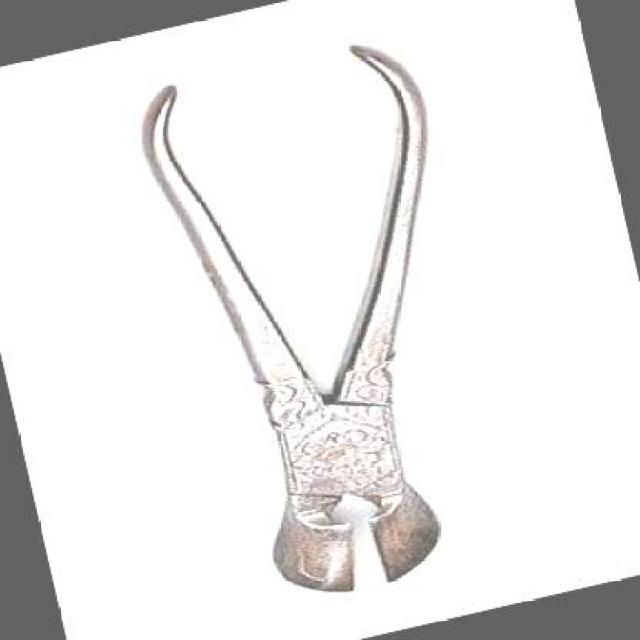pliers: (113, 9, 550, 634)
